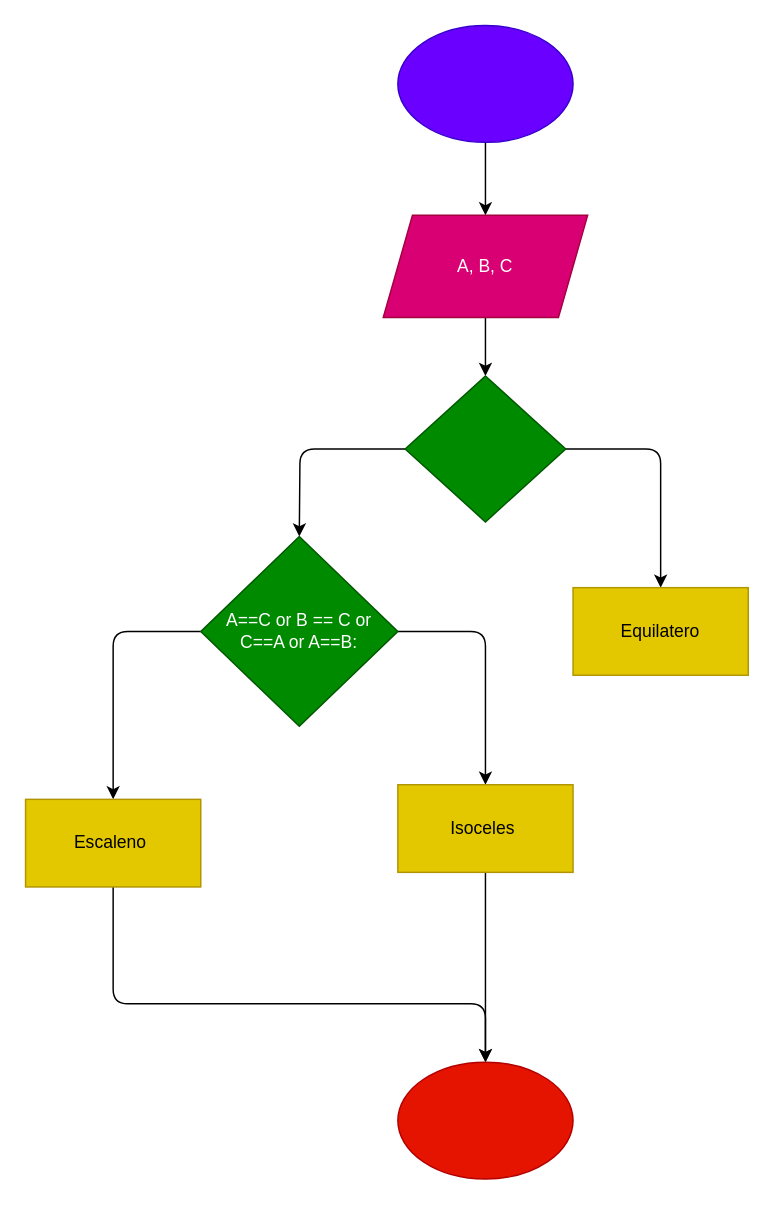
The diagram is 774 pixels wide and 1205 high, and some of its shapes have lost their labels. Here are the shapes that lost their labels. From the top down, the centre of each, then its label:
point (484, 83): INICIO
point (485, 448): A==B and B==C:
point (484, 1120): Fin
